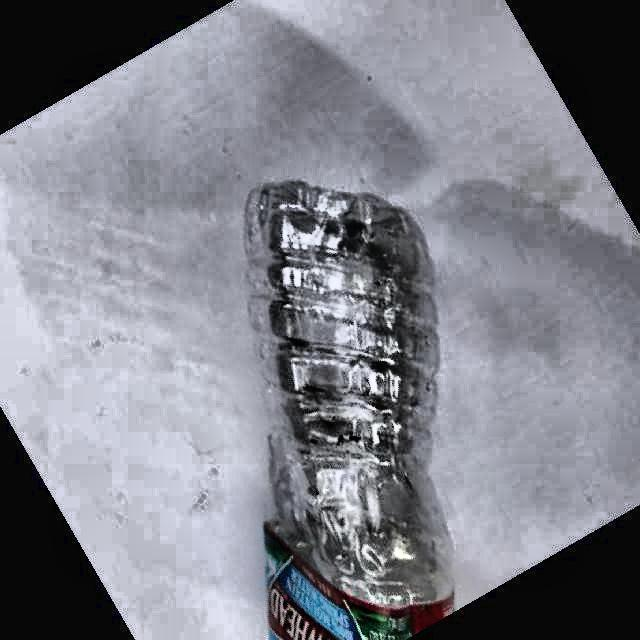plastic: (246, 181, 454, 639)
